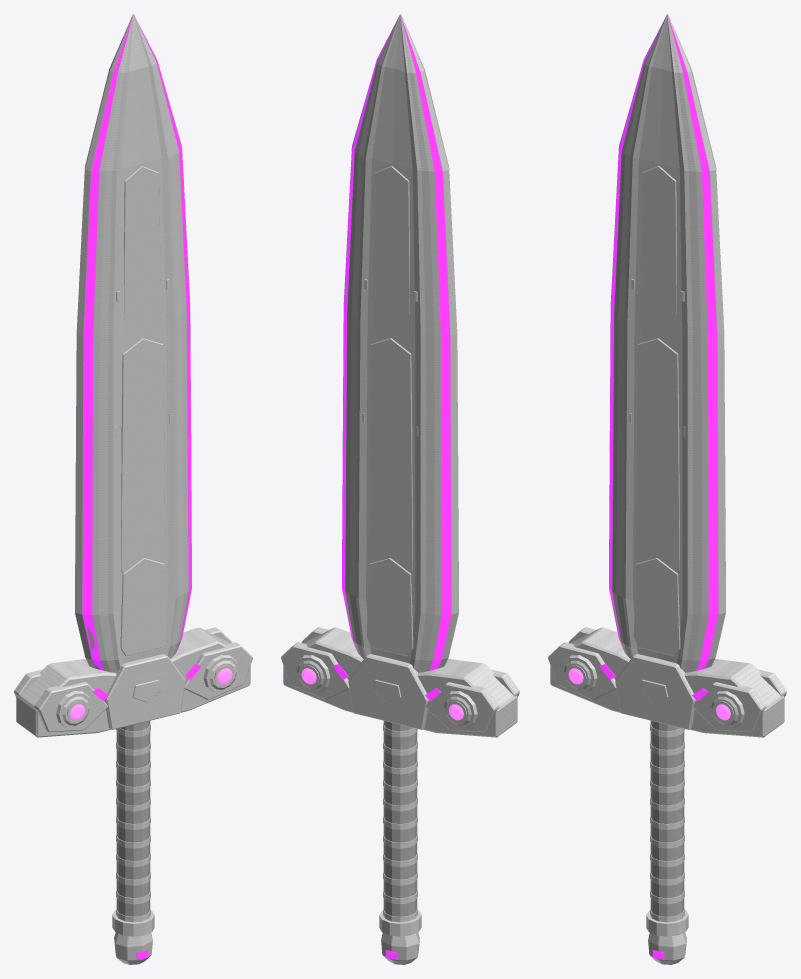
Rendered from VoidKnight-Conceptschwert.glb.
The picture shows the model from 3 angles, left to right: view 1: azimuth 30°, elevation 25°; view 2: azimuth 150°, elevation 25°; view 3: azimuth 330°, elevation 25°; orthographic projection.
Parts seen in each view (by area): view 1: VKC_Blade_Hull, VKC_Spine_Panel_-1_1, VKC_Spine_Panel_-1_2, VKC_Violet_CuttingEdge_-1_-1, VKC_Guard_MainChassis, VKC_Grip_TacticalCore, VKC_Guard_CentralBridge_-1, VKC_Spine_Panel_-1_0, VKC_Violet_CuttingEdge_-1_1, VKC_Guard_SocketArmor_-1_-1, VKC_Guard_SocketArmor_-1_1, VKC_Pommel_ArmoredCap (+1 smaller); view 2: VKC_Blade_Hull, VKC_Spine_Panel_1_1, VKC_Spine_Panel_1_2, VKC_Violet_CuttingEdge_1_-1, VKC_Guard_MainChassis, VKC_Grip_TacticalCore, VKC_Guard_CentralBridge_1, VKC_Spine_Panel_1_0, VKC_Violet_CuttingEdge_1_1, VKC_Guard_SocketArmor_1_-1, VKC_Guard_SocketArmor_1_1, VKC_Pommel_ArmoredCap (+1 smaller); view 3: VKC_Blade_Hull, VKC_Spine_Panel_-1_1, VKC_Spine_Panel_-1_2, VKC_Violet_CuttingEdge_-1_1, VKC_Guard_MainChassis, VKC_Grip_TacticalCore, VKC_Guard_CentralBridge_-1, VKC_Spine_Panel_-1_0, VKC_Violet_CuttingEdge_-1_-1, VKC_Guard_SocketArmor_-1_1, VKC_Guard_SocketArmor_-1_-1, VKC_Pommel_ArmoredCap (+1 smaller).
Boxes of the visible parts, x1,y1,x2,y2 form: VKC_Blade_Hull: (75, 14, 191, 672); VKC_Spine_Panel_-1_1: (121, 338, 165, 573); VKC_Spine_Panel_-1_2: (124, 166, 160, 348); VKC_Violet_CuttingEdge_-1_-1: (82, 15, 133, 670); VKC_Guard_MainChassis: (16, 627, 250, 737); VKC_Grip_TacticalCore: (116, 721, 150, 916); VKC_Guard_CentralBridge_-1: (104, 654, 185, 729); VKC_Spine_Panel_-1_0: (120, 558, 167, 656); VKC_Violet_CuttingEdge_-1_1: (137, 21, 191, 652); VKC_Guard_SocketArmor_-1_-1: (34, 682, 107, 732); VKC_Guard_SocketArmor_-1_1: (184, 642, 252, 699); VKC_Pommel_ArmoredCap: (114, 932, 152, 964); VKC_Blade_Hull: (342, 14, 458, 672); VKC_Spine_Panel_1_1: (368, 338, 412, 573); VKC_Spine_Panel_1_2: (373, 166, 409, 348); VKC_Violet_CuttingEdge_1_-1: (400, 15, 451, 670); VKC_Guard_MainChassis: (283, 627, 517, 737); VKC_Grip_TacticalCore: (383, 721, 417, 916); VKC_Guard_CentralBridge_1: (348, 654, 429, 729); VKC_Spine_Panel_1_0: (366, 558, 413, 656); VKC_Violet_CuttingEdge_1_1: (342, 21, 396, 652); VKC_Guard_SocketArmor_1_-1: (426, 682, 499, 732); VKC_Guard_SocketArmor_1_1: (281, 642, 349, 699); VKC_Pommel_ArmoredCap: (381, 932, 419, 964); VKC_Blade_Hull: (609, 14, 725, 672); VKC_Spine_Panel_-1_1: (635, 338, 679, 573); VKC_Spine_Panel_-1_2: (640, 166, 676, 348); VKC_Violet_CuttingEdge_-1_1: (667, 15, 718, 670); VKC_Guard_MainChassis: (550, 627, 784, 737); VKC_Grip_TacticalCore: (650, 721, 684, 916); VKC_Guard_CentralBridge_-1: (615, 654, 696, 729); VKC_Spine_Panel_-1_0: (633, 558, 680, 656); VKC_Violet_CuttingEdge_-1_-1: (609, 21, 663, 652); VKC_Guard_SocketArmor_-1_1: (693, 682, 766, 732); VKC_Guard_SocketArmor_-1_-1: (548, 642, 616, 699); VKC_Pommel_ArmoredCap: (648, 932, 686, 964).
Size of the model in its own units: 0.388 by 1.63 by 0.116.
5 materials, 3 textured.
